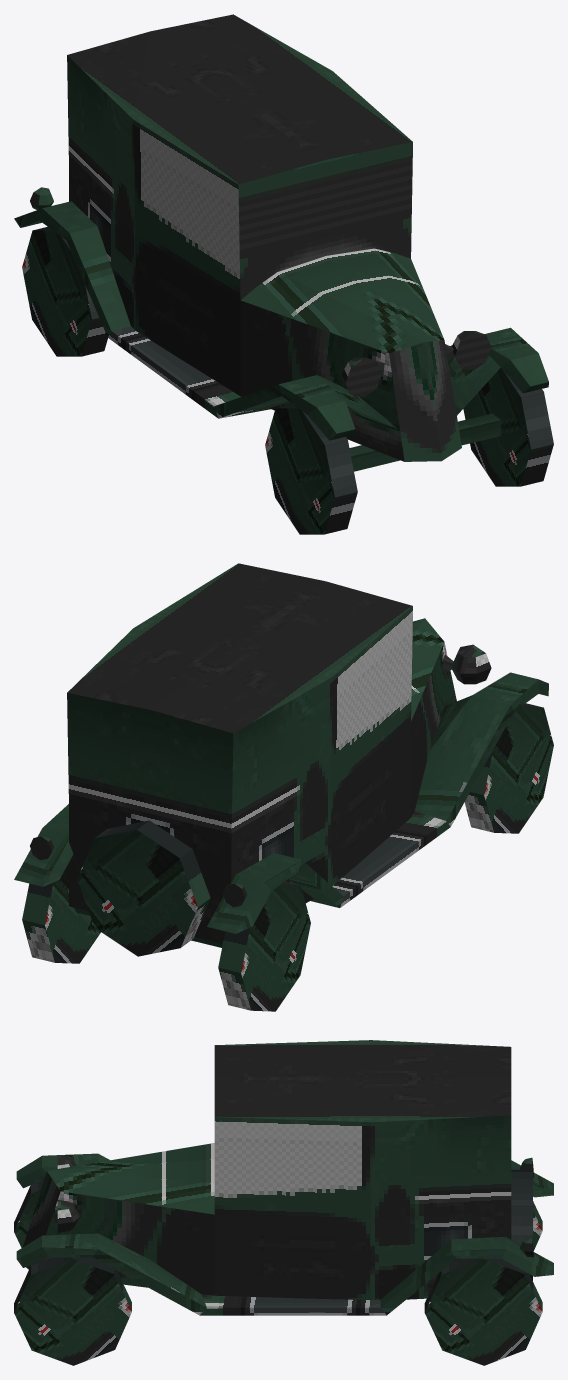
The model's file is car07_green.glb.
3 renders of one model, top to bottom at view 1: azimuth 30°, elevation 25°; view 2: azimuth 150°, elevation 25°; view 3: azimuth 270°, elevation 25°, orthographic. The views are drawn at different scales.
Visible parts, largest first — view 1: car07_green; view 2: car07_green; view 3: car07_green.
Part boxes in pixels (left/top/right/bottom): car07_green: left=14, top=14, right=553, bottom=534; car07_green: left=14, top=563, right=553, bottom=1011; car07_green: left=14, top=1040, right=553, bottom=1365.
Size of the model in its own units: 2.43 by 2.86 by 5.78.
1 material, 1 textured.
